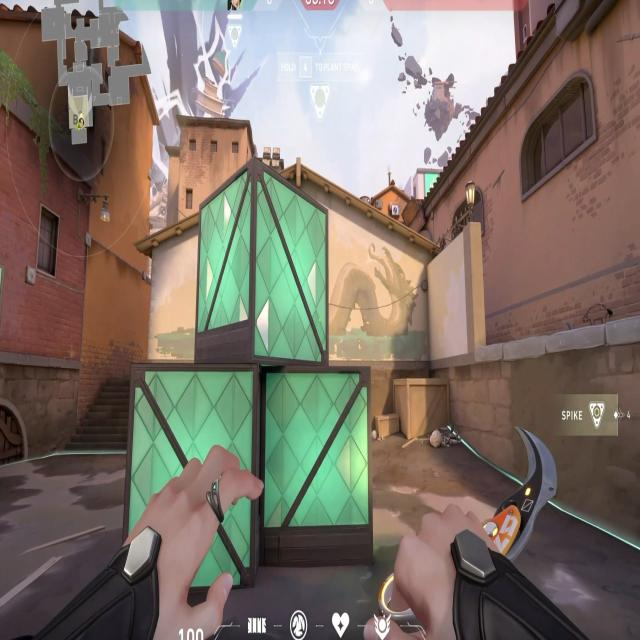B_Site_Box: (120, 143, 408, 614)
Throwables: (508, 59, 616, 208)
